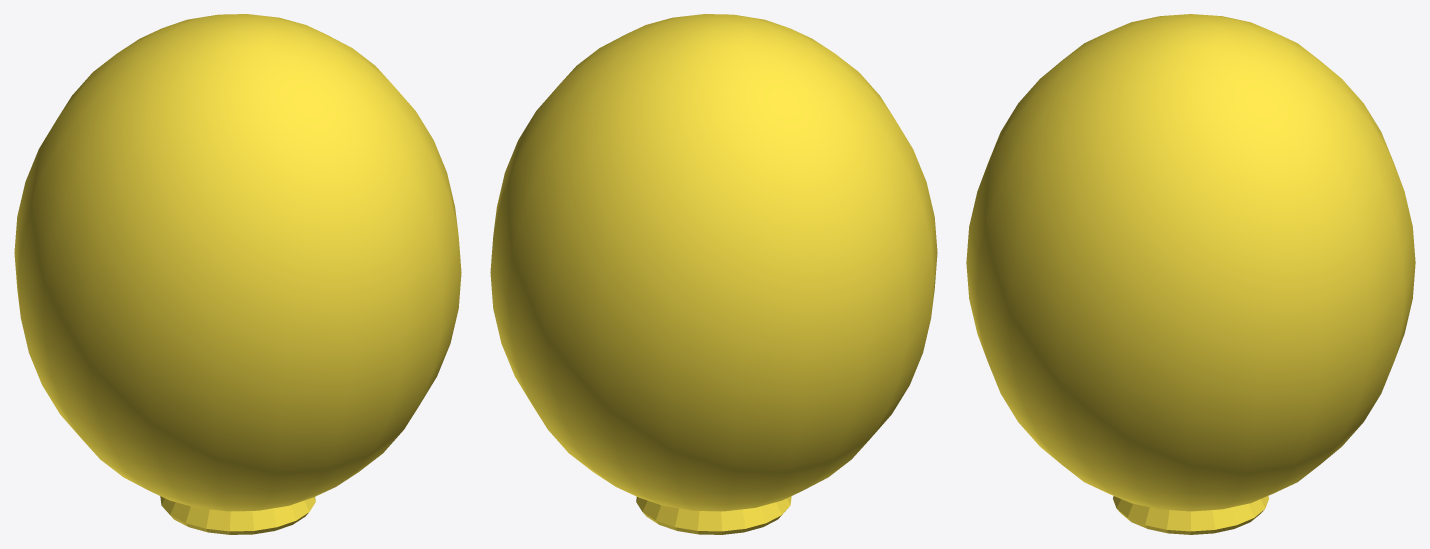
The model's file is yellowBalloon.fbx.
3 renders of one model, left to right at view 1: azimuth 30°, elevation 25°; view 2: azimuth 150°, elevation 25°; view 3: azimuth 270°, elevation 25°, orthographic.
Parts seen in each view (by area): view 1: pSphere1; view 2: pSphere1; view 3: pSphere1.
Boxes of the visible parts, x1,y1,x2,y2 form: pSphere1: [14, 14, 461, 534]; pSphere1: [490, 14, 937, 534]; pSphere1: [966, 14, 1415, 534].
Size of the model in its own units: 3 by 3.56 by 3.
1 material, 1 textured.
